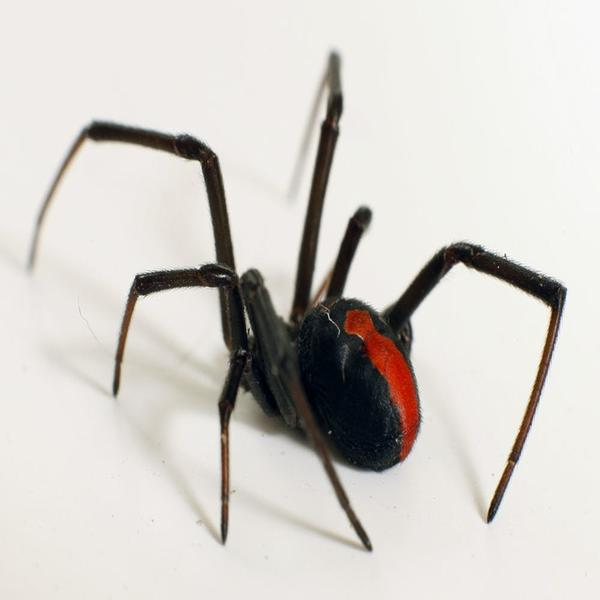Redback_Spider: (31, 51, 568, 550)
